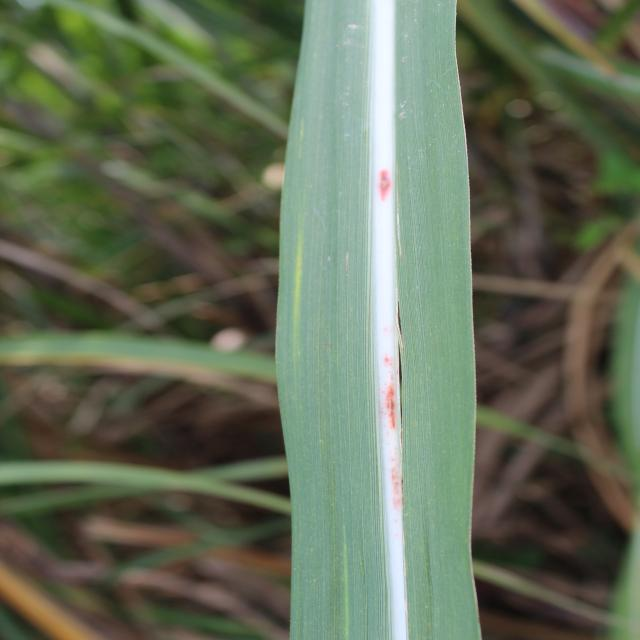Sugarcane: (263, 1, 507, 640)
